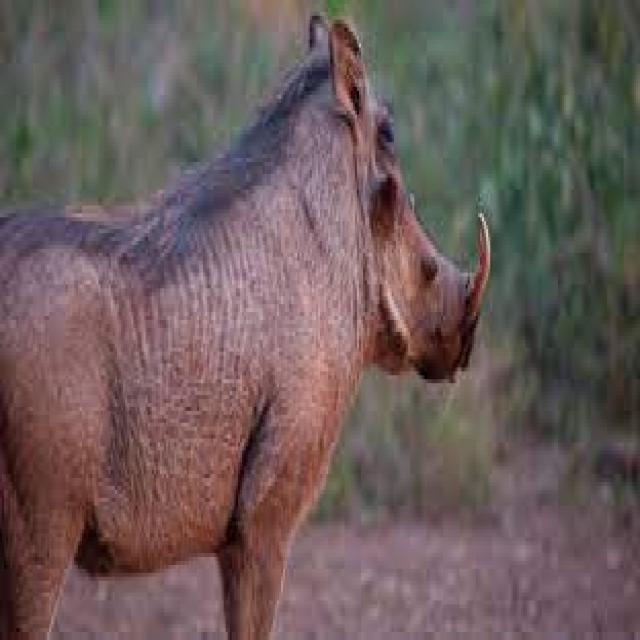boar: (2, 13, 510, 640)
